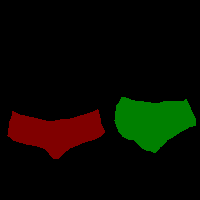mutande: (7, 109, 105, 159), (114, 96, 196, 153)
